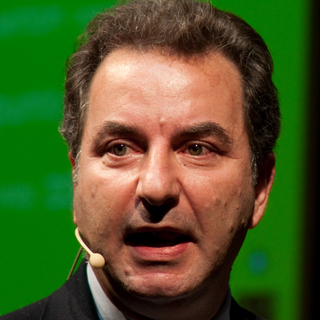eye: (177, 138, 226, 163), (97, 138, 141, 163)
